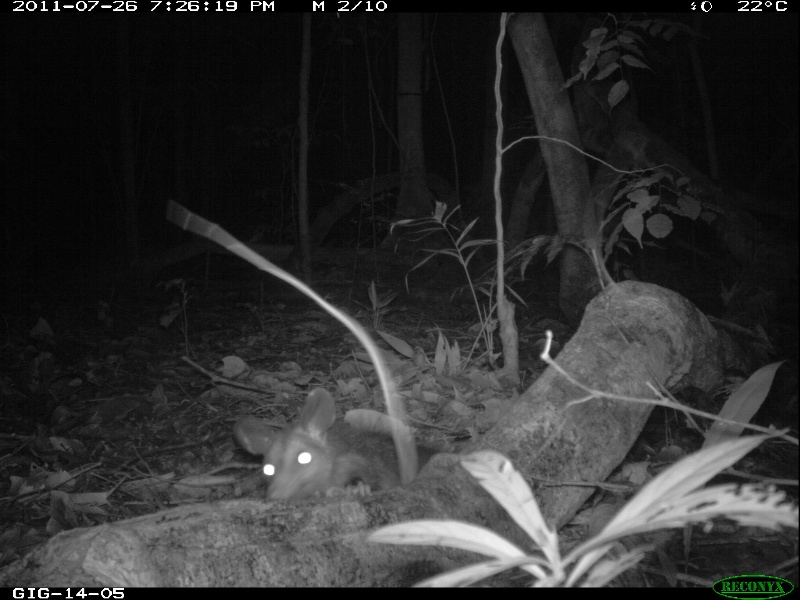opossum: (162, 201, 428, 501)
